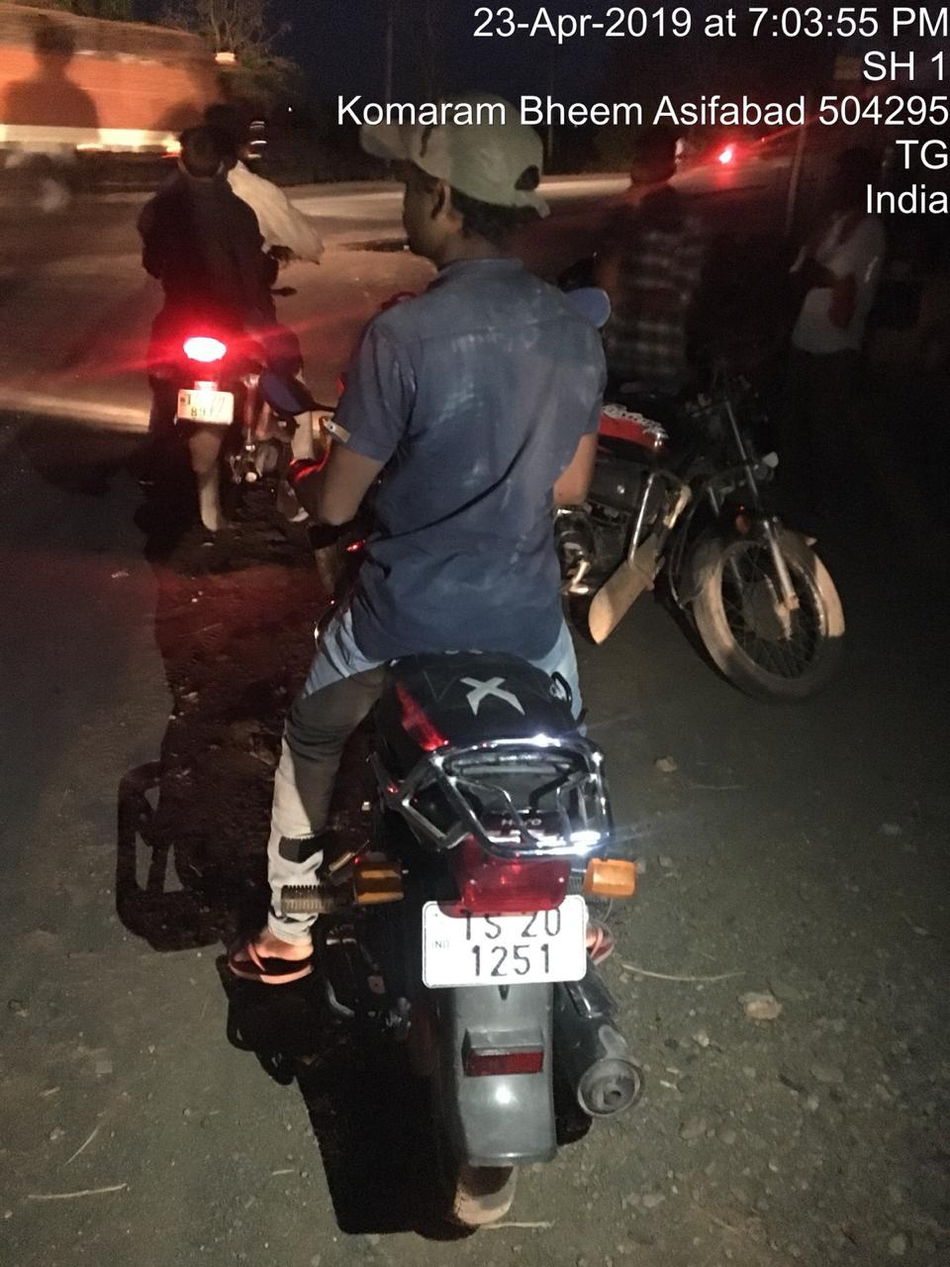plate: (398, 891, 626, 1007)
